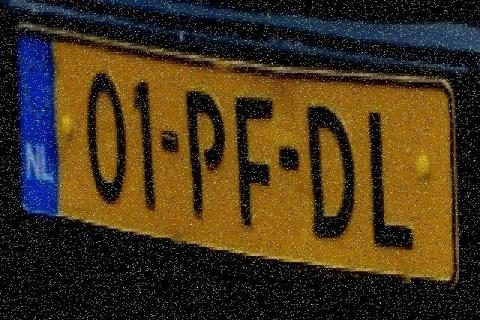LicensePlate: (14, 19, 458, 296)
